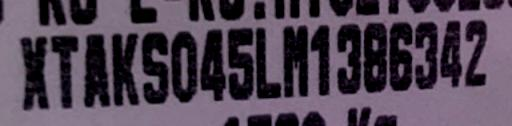letter: (47, 32, 81, 112), (17, 32, 51, 111), (280, 21, 312, 101), (196, 25, 228, 105), (138, 28, 170, 108), (224, 25, 256, 103), (109, 29, 141, 107), (252, 25, 284, 101), (81, 29, 111, 109), (386, 18, 416, 94), (334, 21, 364, 97), (169, 28, 199, 104), (361, 18, 389, 96), (413, 17, 441, 92), (462, 17, 490, 89), (439, 17, 465, 90), (308, 21, 332, 99)
